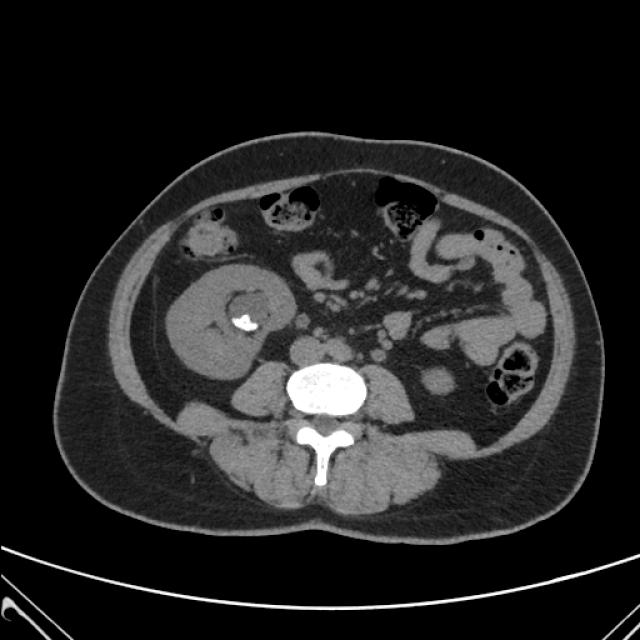kidney: (218, 282, 279, 369), (427, 373, 453, 393)
stone: (233, 316, 257, 332)
